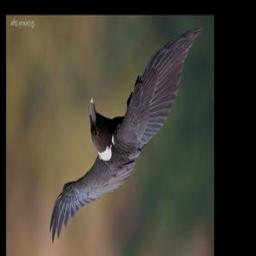Crow: (49, 23, 204, 245)
